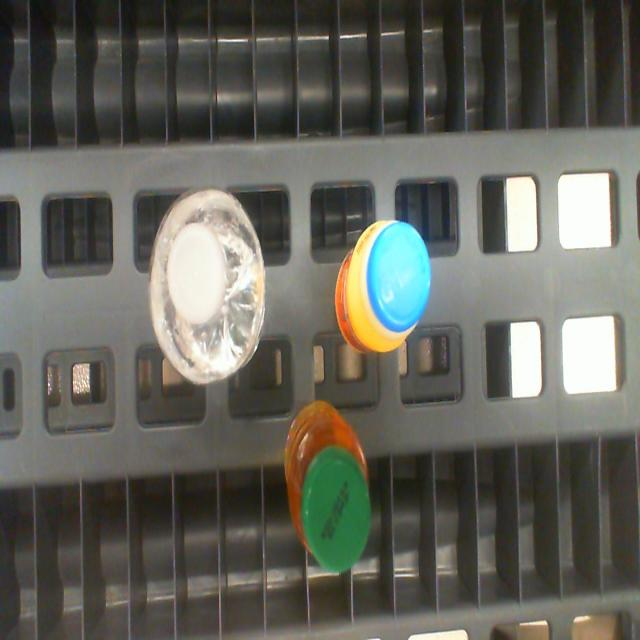drink: (300, 447, 372, 574), (366, 220, 430, 332), (166, 223, 225, 325)
